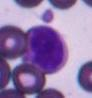M: (22, 25, 69, 74)
